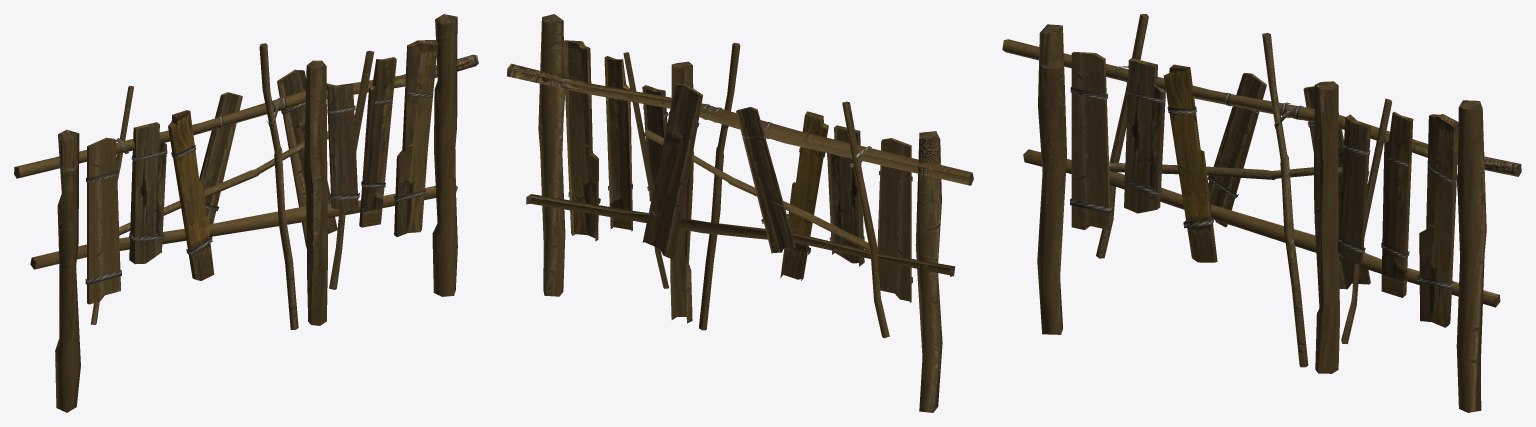
File: 6001_Item_mutou_6.FBX
3 views of the same model, side by side, from view 1: azimuth 30°, elevation 25°; view 2: azimuth 150°, elevation 25°; view 3: azimuth 330°, elevation 25° (orthographic). The views are drawn at different scales.
Parts seen in each view (by area): view 1: 6001_Item_mutou_6; view 2: 6001_Item_mutou_6; view 3: 6001_Item_mutou_6.
Part boxes in pixels (left/top/right/bottom): 6001_Item_mutou_6: left=14, top=14, right=478, bottom=412; 6001_Item_mutou_6: left=507, top=14, right=973, bottom=412; 6001_Item_mutou_6: left=1002, top=14, right=1521, bottom=412.
Size of the model in its own units: 389 by 28.84 by 256.
